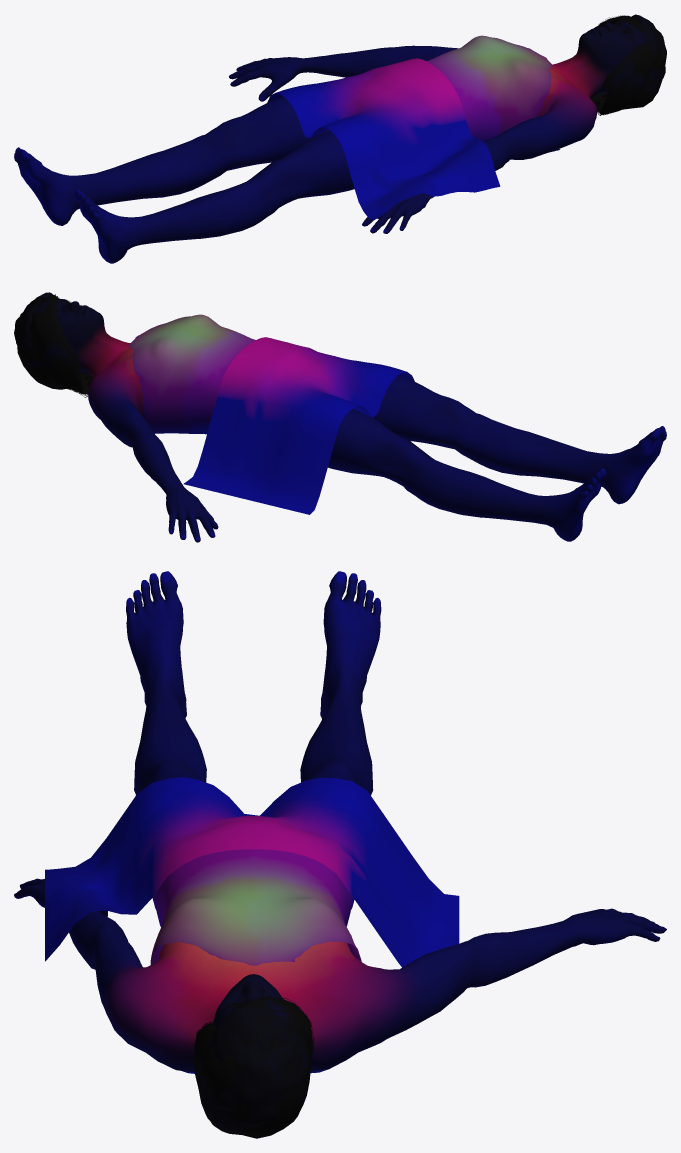
File: patient.glb
3 renders of one model, top to bottom at view 1: azimuth 30°, elevation 25°; view 2: azimuth 150°, elevation 25°; view 3: azimuth 270°, elevation 25°, orthographic. The views are drawn at different scales.
Parts seen in each view (by area): view 1: patient_body, patient_sheet, patient_gown, patient_hair_f, patient_hair; view 2: patient_body, patient_sheet, patient_gown, patient_hair_f, patient_hair; view 3: patient_body, patient_sheet, patient_gown, patient_hair, patient_hair_f.
Boxes of the visible parts, box(x1,y1,x2,y2) form: patient_body: box(14, 20, 644, 263); patient_sheet: box(267, 58, 500, 220); patient_gown: box(427, 35, 559, 152); patient_hair_f: box(590, 15, 666, 115); patient_hair: box(597, 14, 665, 97); patient_body: box(56, 298, 666, 542); patient_sheet: box(183, 337, 414, 514); patient_gown: box(127, 314, 255, 434); patient_hair_f: box(17, 294, 93, 397); patient_hair: box(14, 292, 85, 374); patient_body: box(14, 571, 666, 1071); patient_sheet: box(45, 777, 459, 967); patient_gown: box(150, 849, 361, 1073); patient_hair: box(204, 1007, 308, 1127); patient_hair_f: box(194, 996, 314, 1138).
Size of the model in its own units: 1.82 by 0.2657 by 1.06.
Materials: 9 (7 with a texture image).
